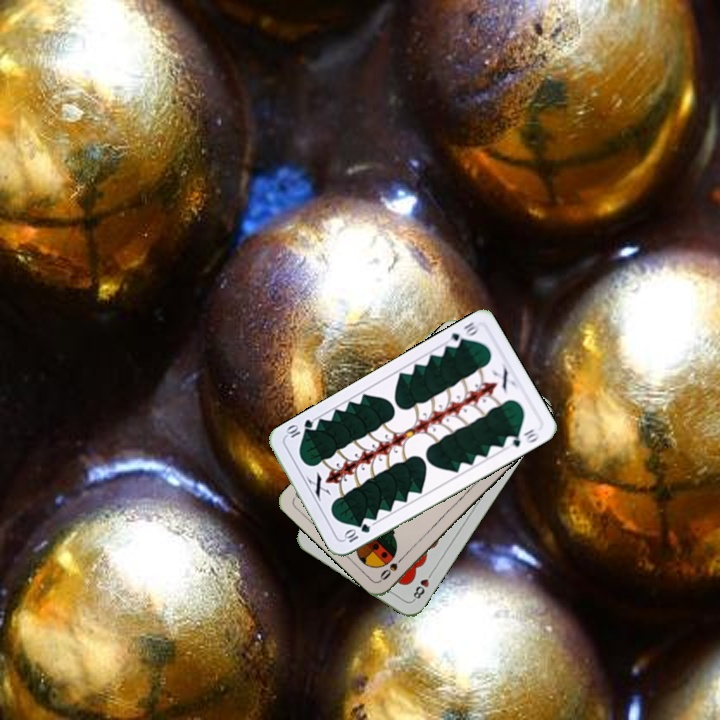G10: (443, 317, 482, 351), (340, 519, 373, 545)
H8: (409, 567, 436, 603)
SO: (376, 550, 408, 583)
